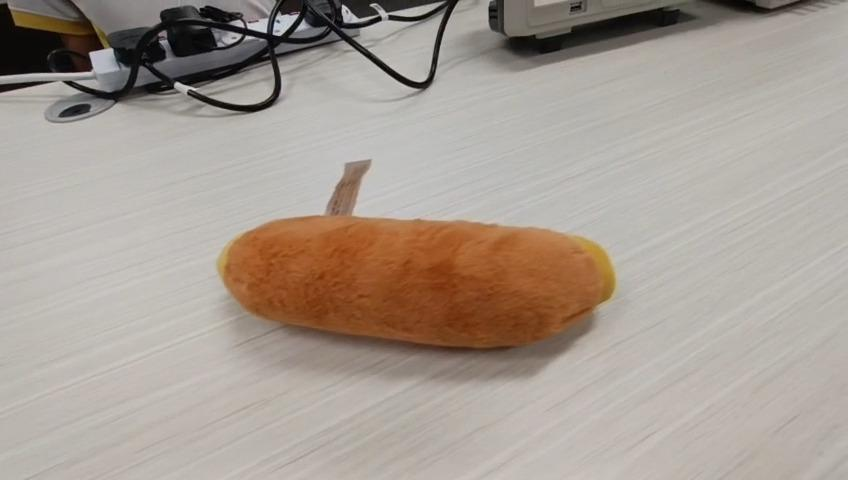hotdog: (215, 215, 614, 348)
